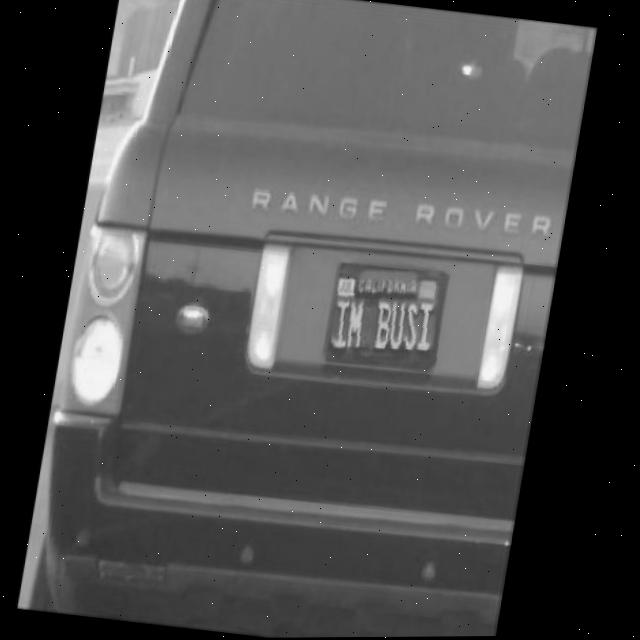LicensePlate: (328, 261, 453, 374)
